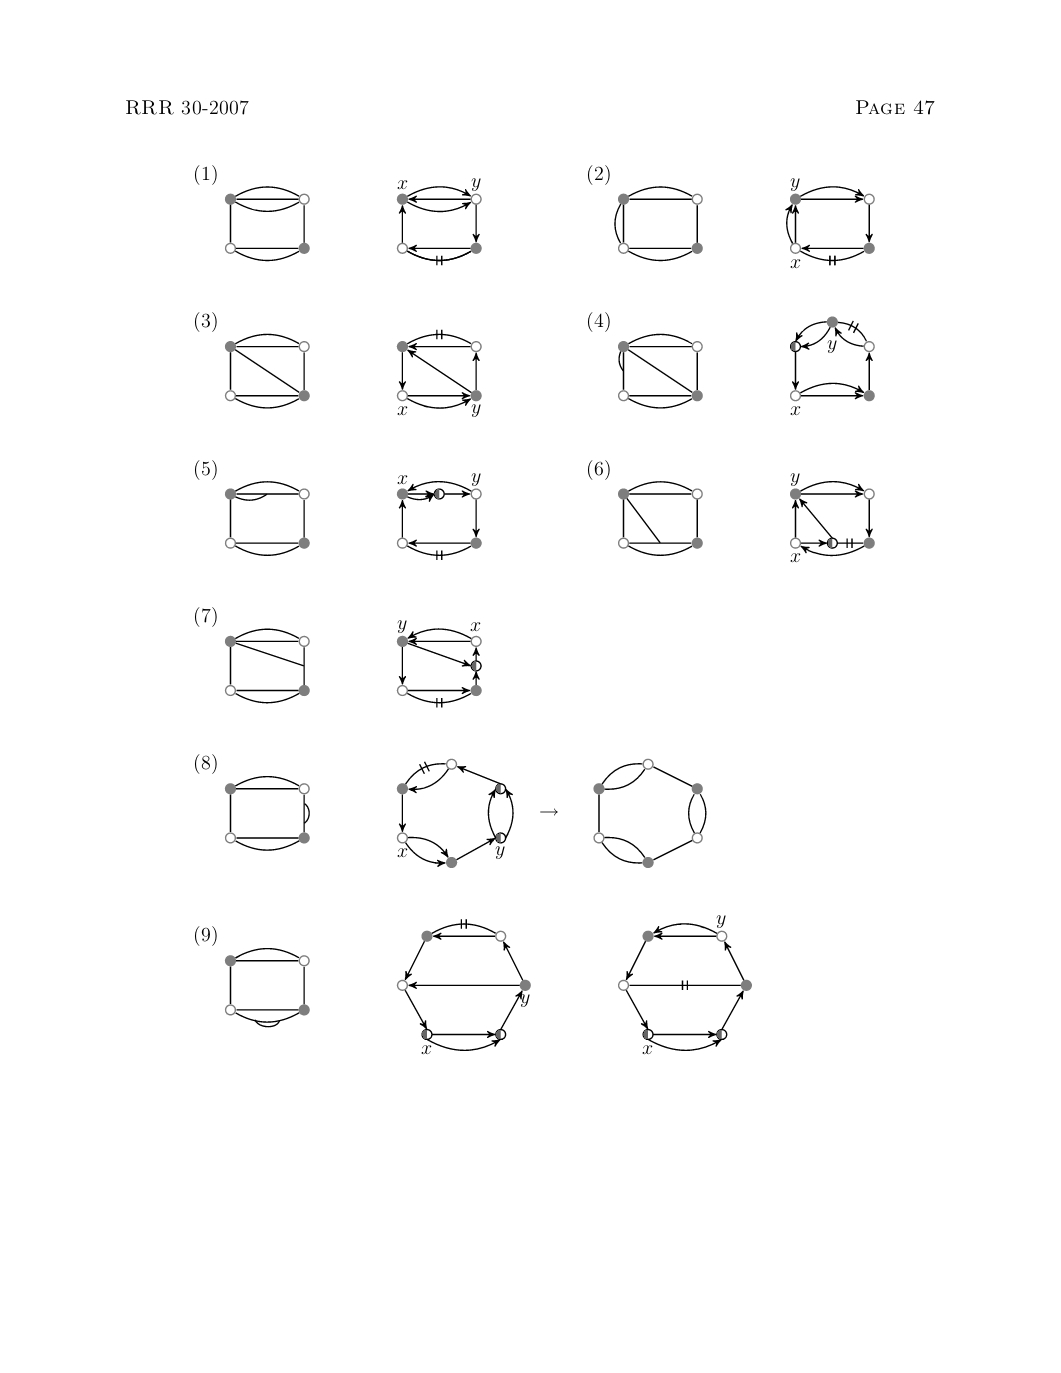figure: (195, 918, 530, 1055), (195, 753, 513, 868), (195, 311, 481, 417), (588, 164, 874, 269), (588, 311, 874, 416), (588, 459, 874, 563), (195, 164, 481, 266), (195, 606, 481, 708), (195, 459, 481, 559), (619, 914, 751, 1055), (593, 757, 705, 868)
